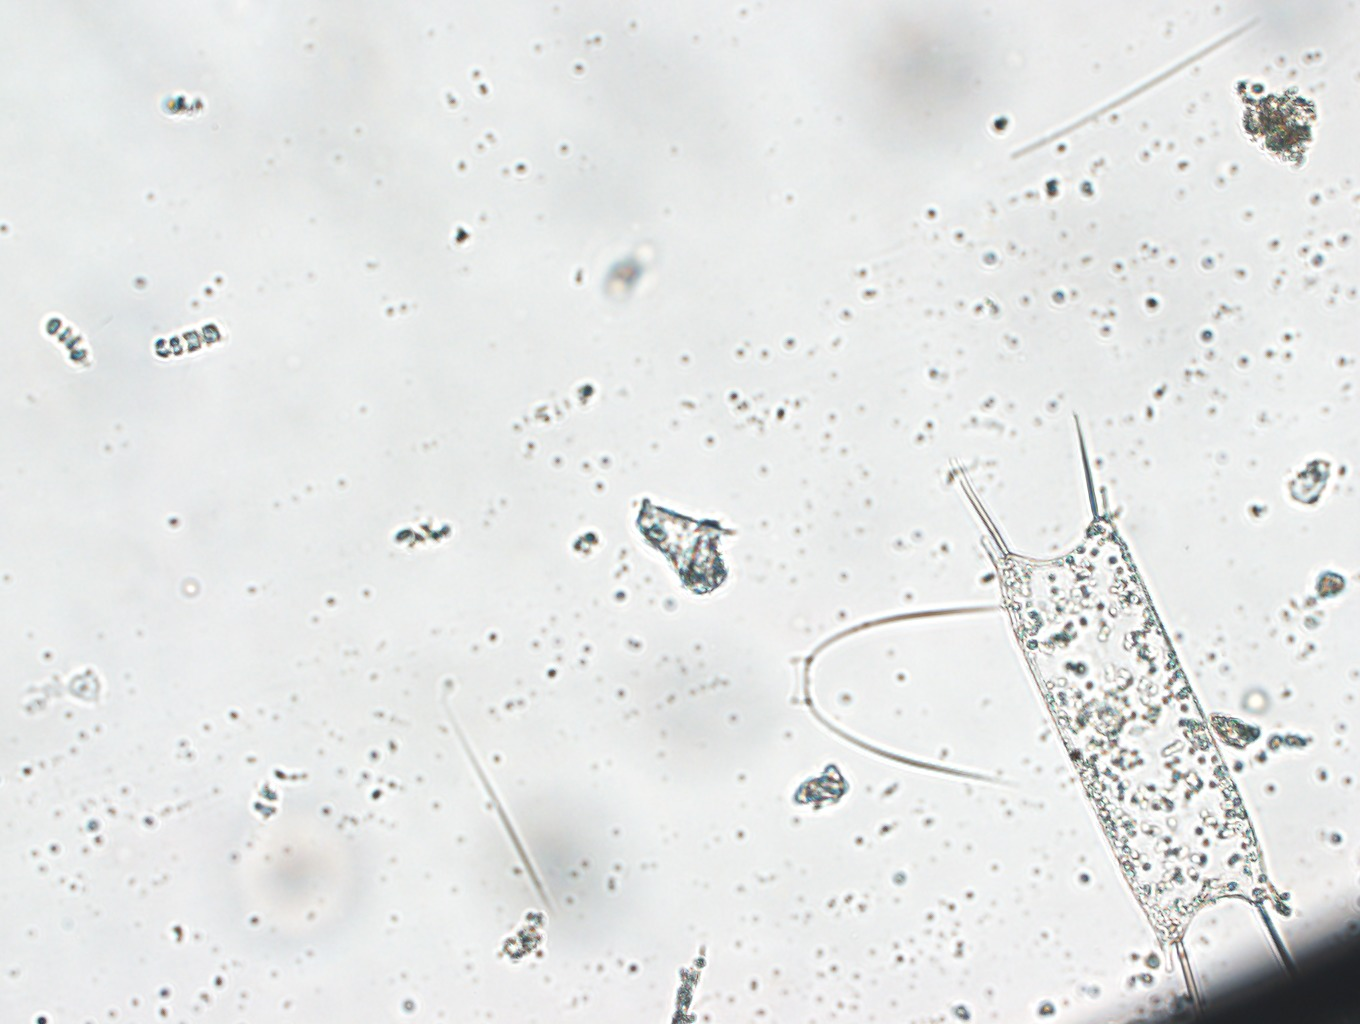biddulphia: (944, 430, 1297, 996)
